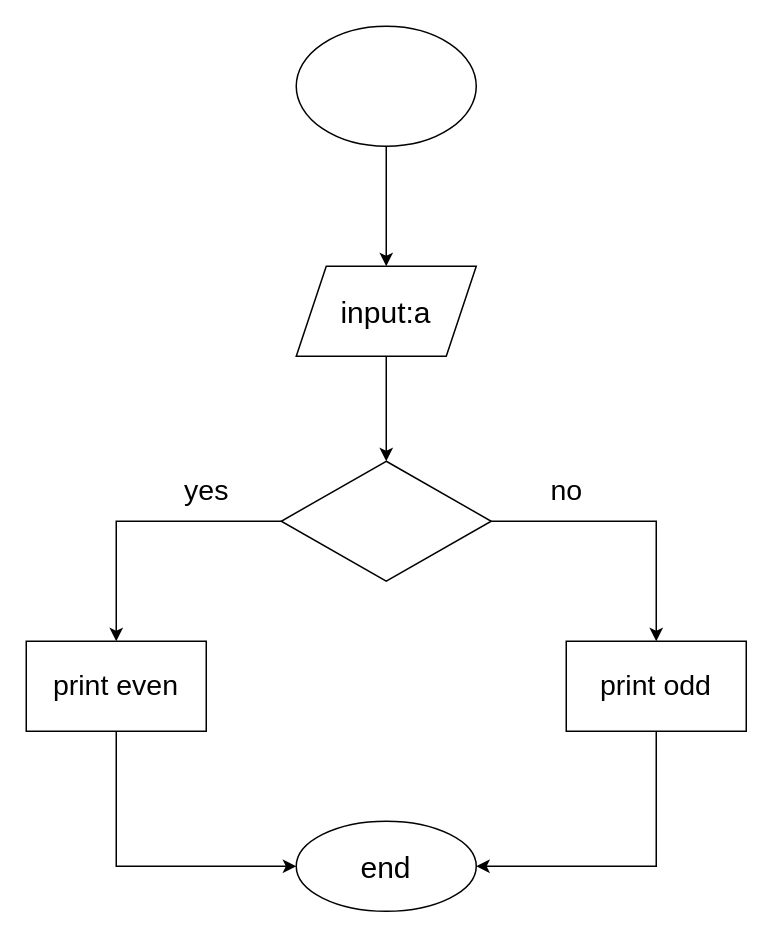
The diagram is 773 pixels wide and 938 high, and some of its shapes have lost their labels. The shapes that lost their labels are listed below. From the top down, each one's centre as x and y in pixels, then its label:
At (x=385, y=85): "start".
At (x=385, y=520): "a%2==0".
